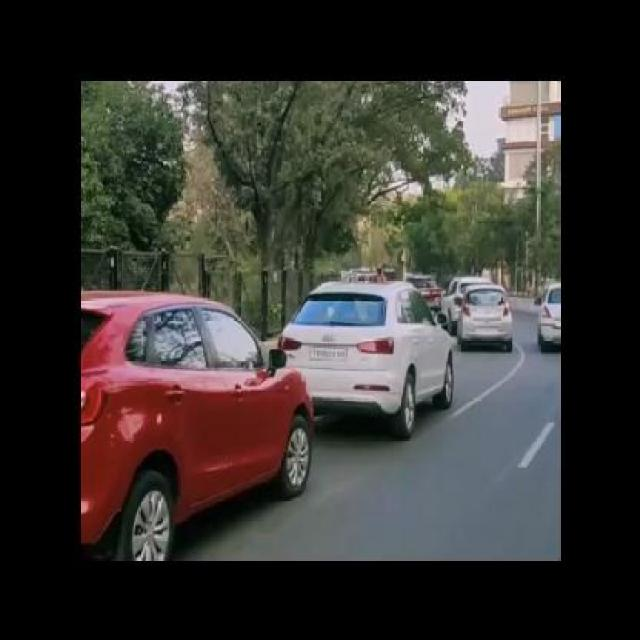car: (80, 292, 314, 555), (277, 282, 457, 440), (452, 278, 514, 352), (538, 282, 560, 351)
